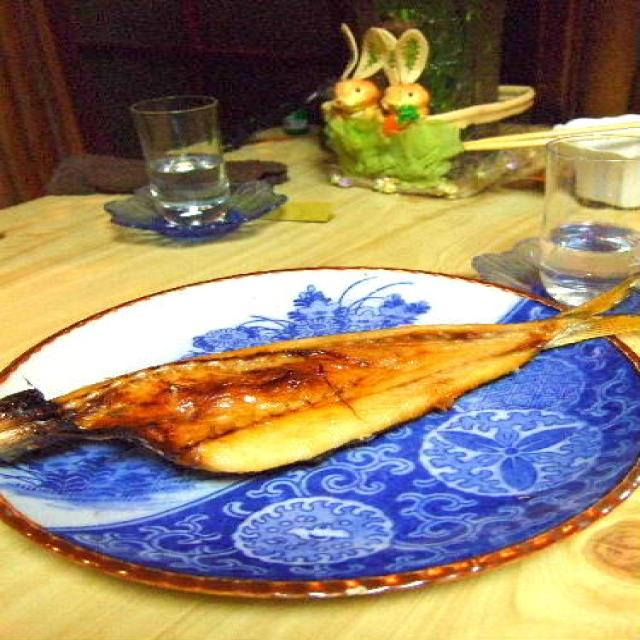熟制海鲜: (0, 264, 640, 478)
